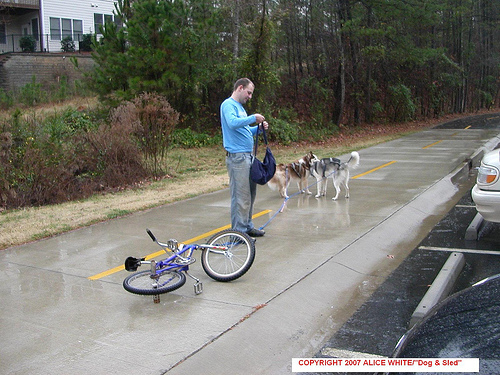dog: (309, 148, 364, 203), (267, 150, 319, 199)
